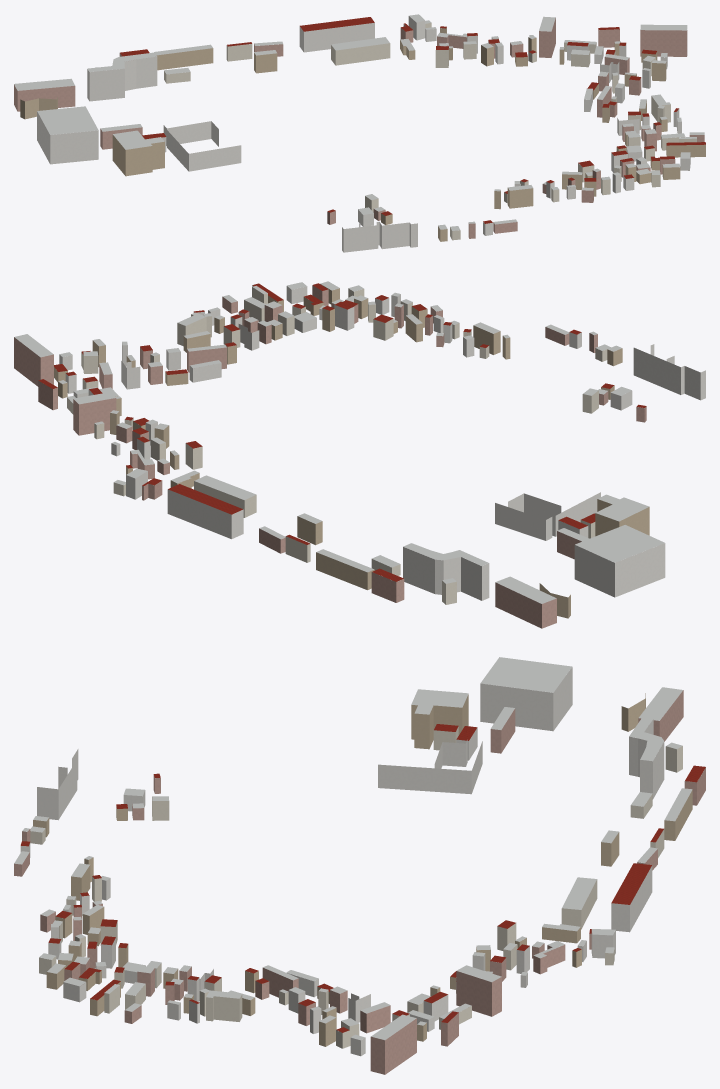
Rendered from r2_fucheng_context.glb.
3 views of the same model, one above another, from view 1: azimuth 30°, elevation 25°; view 2: azimuth 150°, elevation 25°; view 3: azimuth 270°, elevation 25° (orthographic). The views are drawn at different scales.
Parts seen in each view (by area): view 1: r2_fucheng_context_skyline; view 2: r2_fucheng_context_skyline; view 3: r2_fucheng_context_skyline.
Boxes of the visible parts, x1,y1,x2,y2 form: r2_fucheng_context_skyline: (14, 14, 705, 252); r2_fucheng_context_skyline: (14, 281, 705, 628); r2_fucheng_context_skyline: (14, 657, 705, 1074).
Size of the model in its own units: 685 by 32.31 by 528.
Materials: 6 (5 with a texture image).
